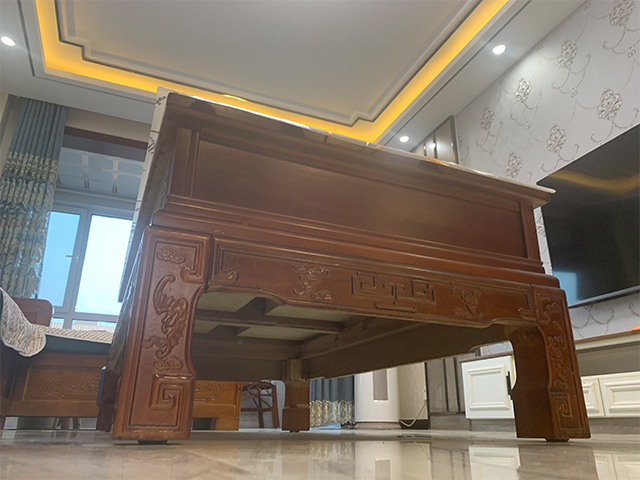cabinet: (458, 326, 640, 434)
curtain: (310, 376, 355, 427)
sofa: (1, 287, 111, 433)
table: (94, 91, 593, 445)
wire: (399, 401, 426, 427)
